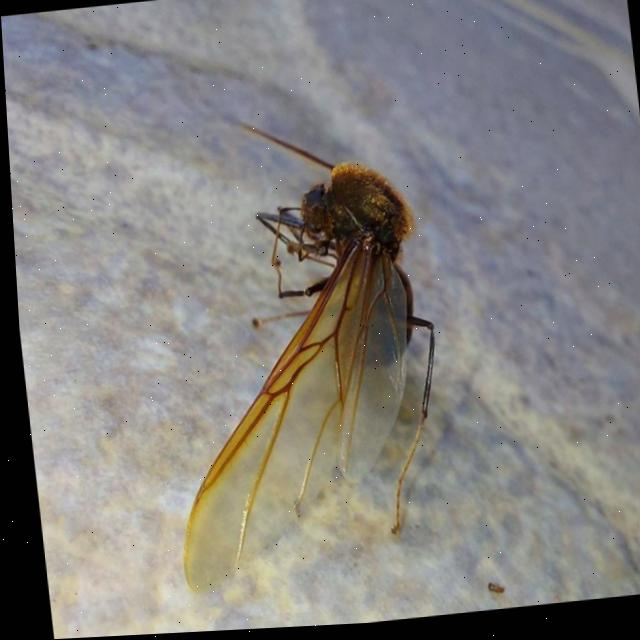Dead-Male-Alate: (133, 107, 455, 599)
